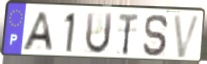1: (63, 12, 77, 54)
A: (20, 12, 55, 53)
S: (142, 13, 170, 58)
T: (117, 12, 140, 57)
U: (84, 12, 114, 56)
V: (171, 14, 202, 60)
